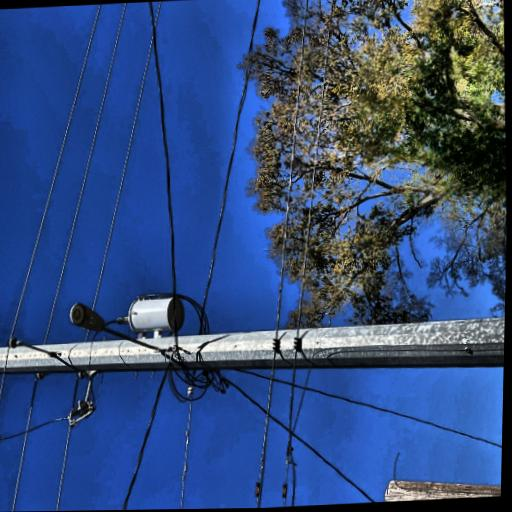pole: (0, 6, 72, 512)
street light: (28, 213, 88, 343)
transformer: (49, 277, 88, 346)
